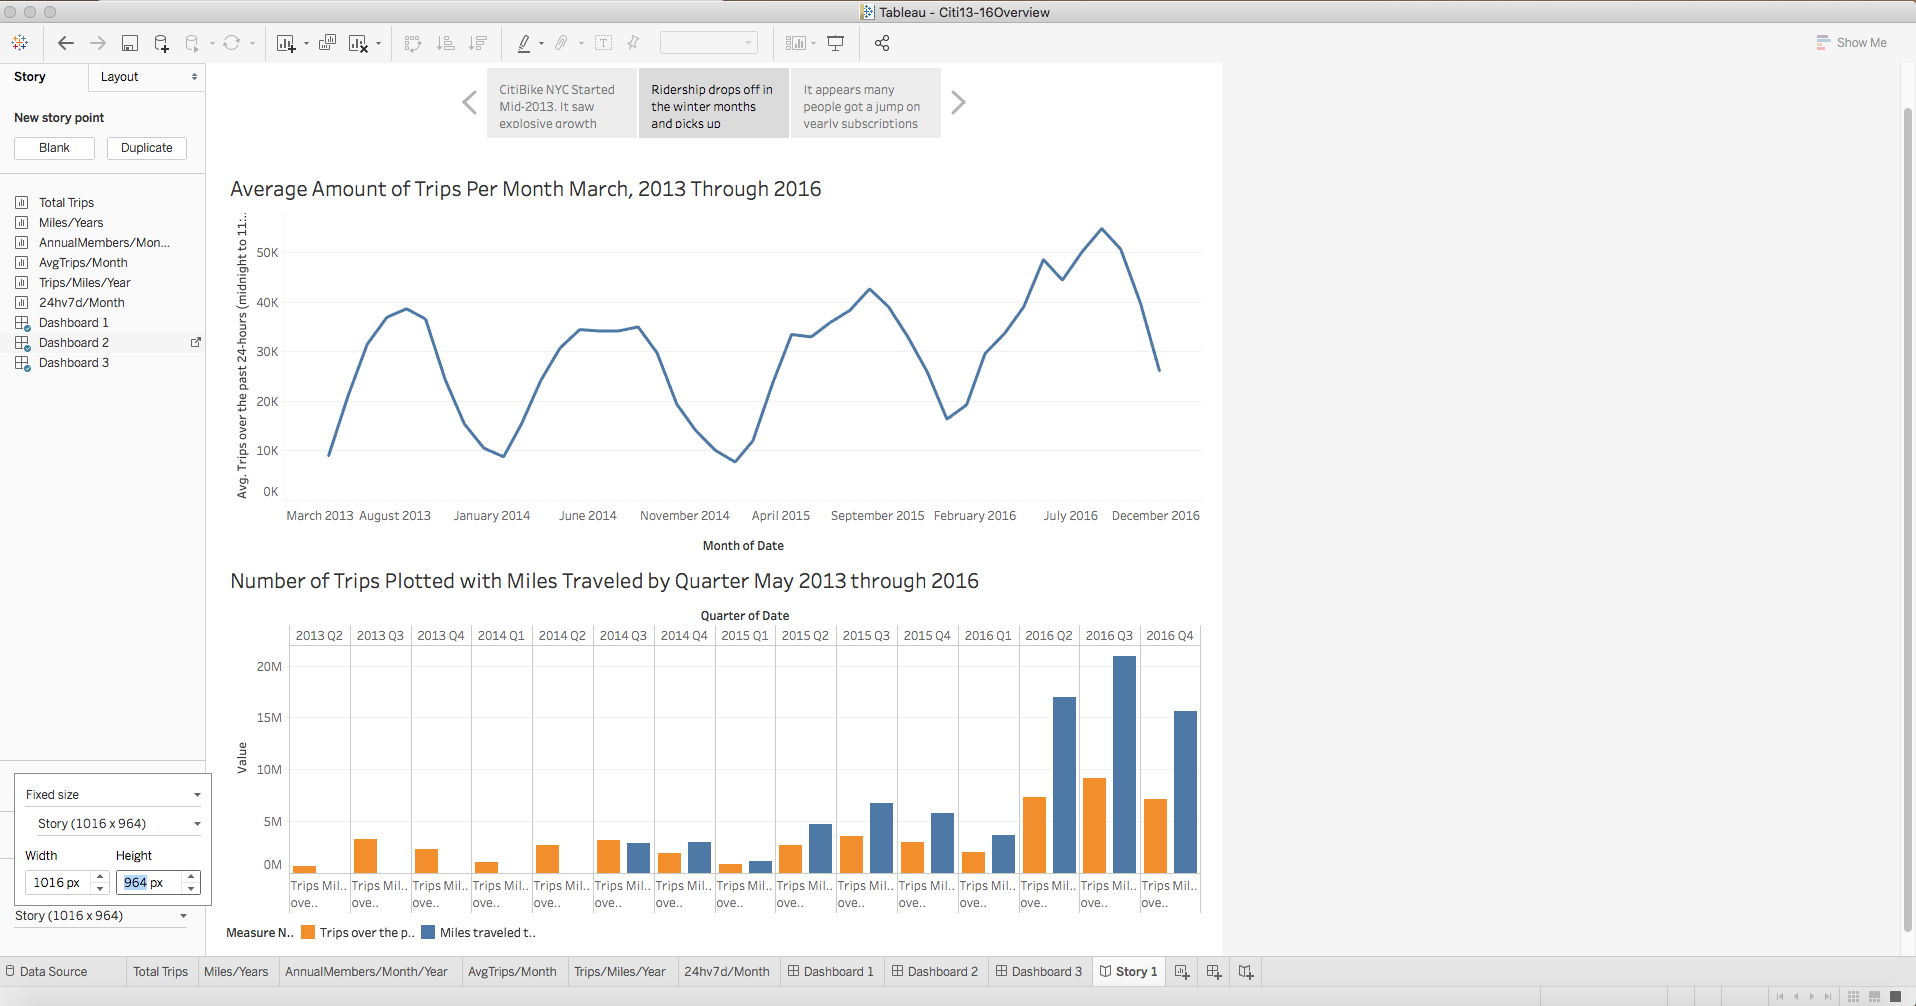

This screenshot's page, from the dashboard's own definition file:
{"tool":"tableau","page":{"name":"Dashboard 2","canvas":[1000,800],"ordinal":1},"visuals":[{"type":"worksheet","title":"AvgTrips/Month","mark":"Automatic","rows":["59pm)"],"cols":["Date"],"box":[8,8,984,392]},{"type":"worksheet","title":"Trips/Miles/Year","mark":"Bar","cols":["Date"],"box":[8,400,984,360]},{"type":"legend","title":"Trips/Miles/Year","param":"[federated.0h27gye1qyo4i51185m8p0l1csyk].[:Measure Names]","box":[8,760,984,32]}]}

Visuals, with their boxes on the page's 1000x800 design canvas (x1, y1, x2, y2). These are canvas units, not pixel positions in the 1916x1006 screenshot, which may show the page scaled, cropped or inside an application window:
"AvgTrips/Month" worksheet: [x1=8, y1=8, x2=992, y2=400]
"Trips/Miles/Year" worksheet (Bar marks): [x1=8, y1=400, x2=992, y2=760]
"Trips/Miles/Year" legend: [x1=8, y1=760, x2=992, y2=792]
